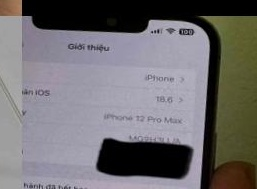screen_defect: (79, 114, 213, 189)
